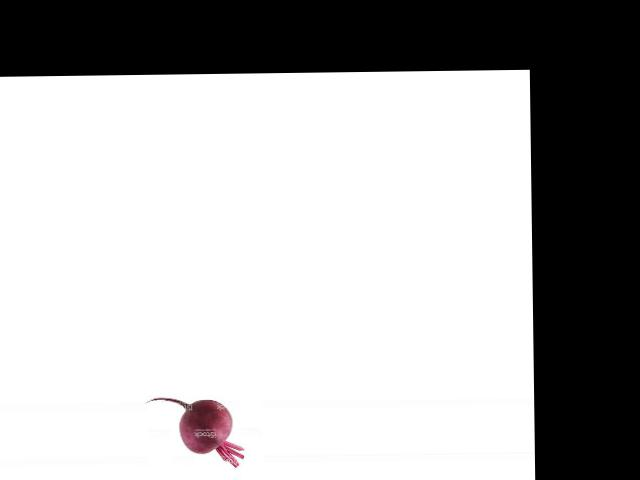beet: (145, 397, 244, 468)
